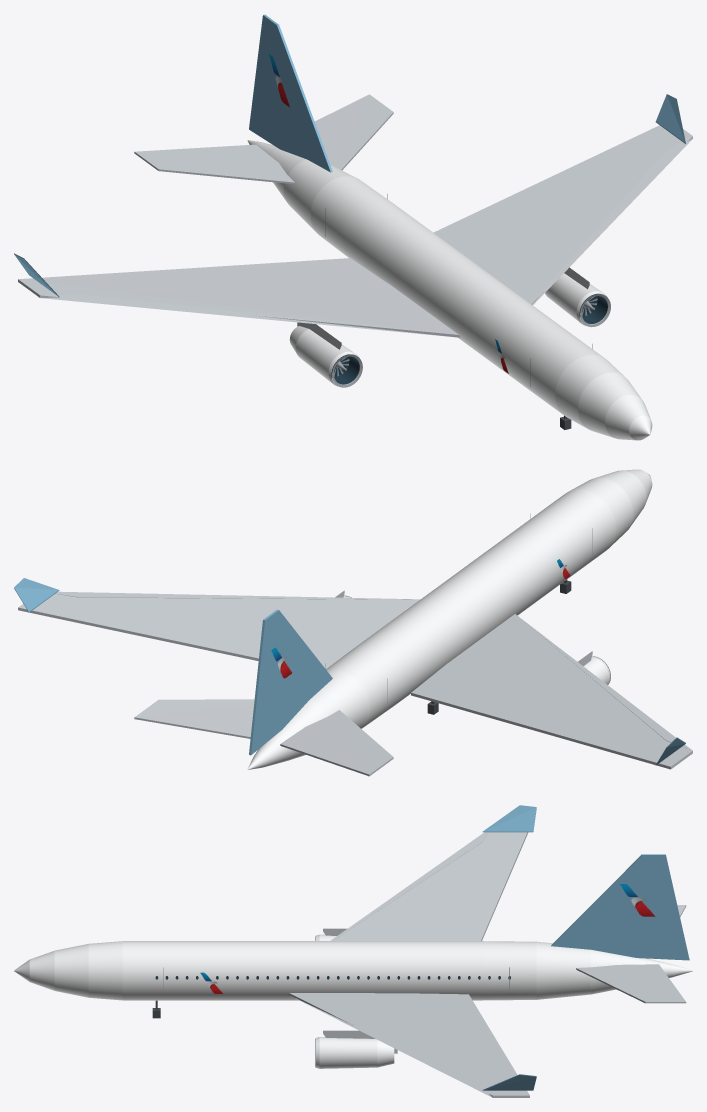
Rendered from a330-AAL-v2.gltf.
The picture shows the model from 3 angles, top to bottom: view 1: azimuth 30°, elevation 25°; view 2: azimuth 150°, elevation 25°; view 3: azimuth 270°, elevation 25°; orthographic projection. The views are drawn at different scales.
Parts seen in each view (by area): view 1: object 1; view 2: object 1; view 3: object 1.
Boxes of the visible parts, bbox=[...] form: object 1: bbox=[14, 14, 692, 440]; object 1: bbox=[14, 469, 692, 776]; object 1: bbox=[14, 805, 692, 1097].
Size of the model in its own units: 60 by 16.88 by 64.
Materials: 7 (1 with a texture image).
